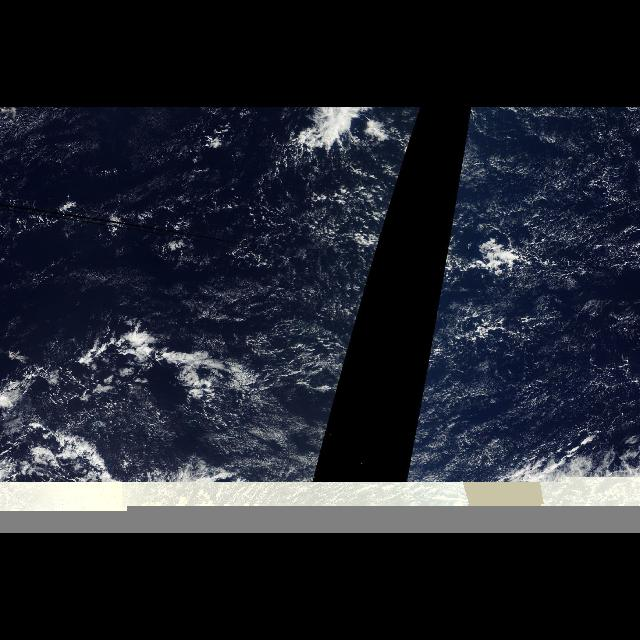Gravel: (264, 144, 394, 364)
Sugar: (488, 113, 632, 443)
